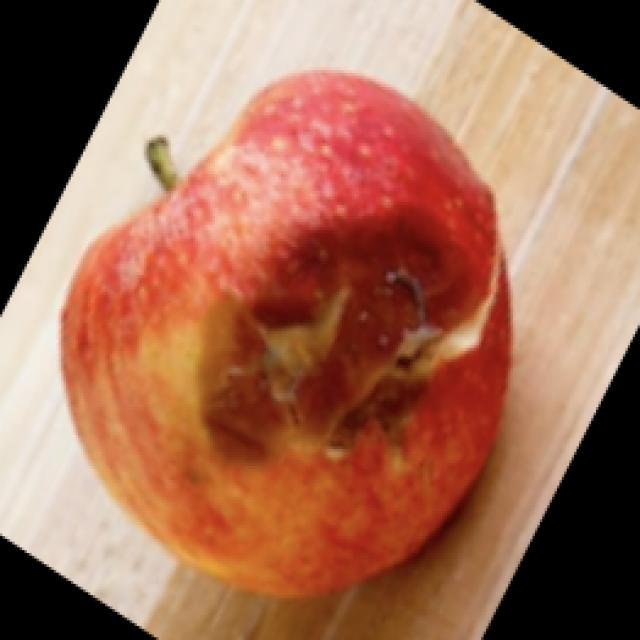Rotten: (55, 65, 520, 597)
